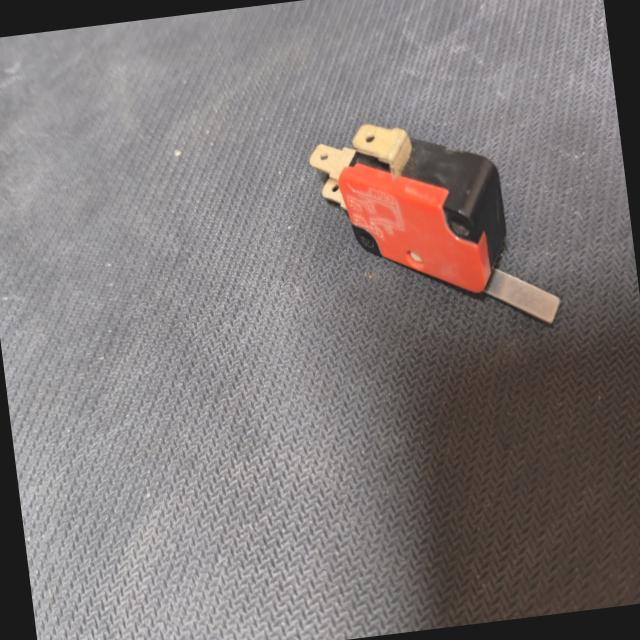switch: (289, 93, 582, 363)
